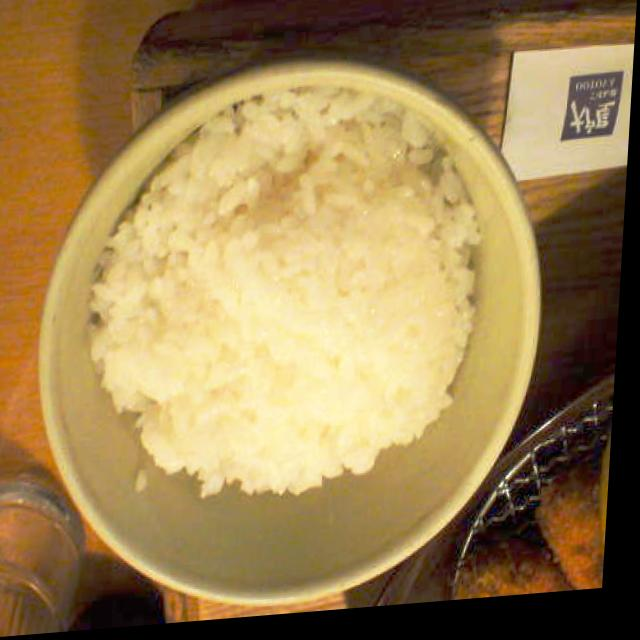rice: (77, 75, 493, 519)
